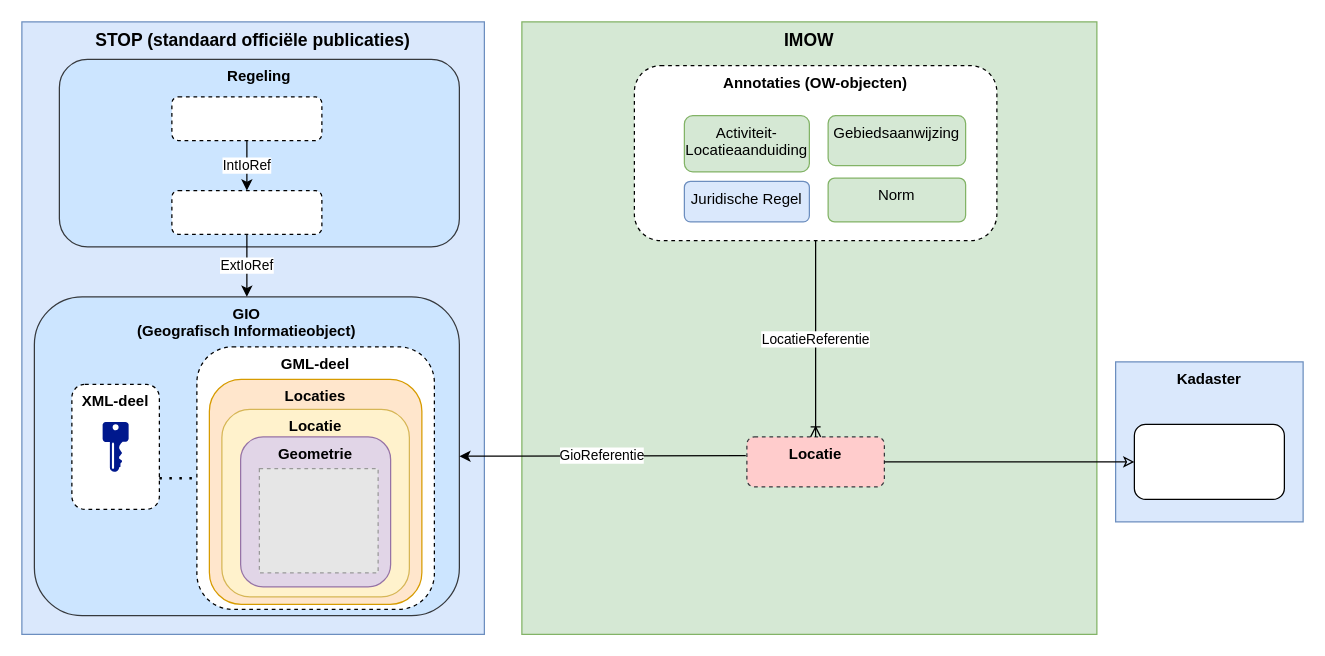
Some shapes in this 1325 by 656 pixel diagram are drawn without their labels. Grey dashed boxes stand in for pictures. Here are the shapes that lost their labels. From the top down, the centre of each, then its label:
At point (246, 118): "Lichaam".
At point (246, 211): "Bijlage".
At point (115, 446): "hash".
At point (1208, 461): "BestuurlijkeGrenzen-Voorziening".
